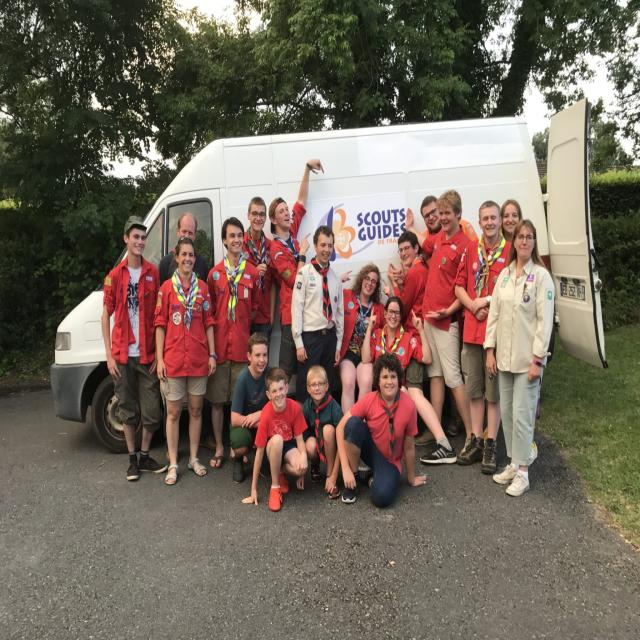body: (481, 215, 558, 499), (100, 212, 169, 481), (405, 189, 473, 455), (385, 229, 458, 466), (152, 232, 218, 486), (411, 193, 474, 456), (454, 200, 512, 474), (334, 348, 429, 510), (206, 214, 262, 470), (267, 157, 326, 389), (334, 261, 394, 472), (290, 224, 344, 409), (240, 367, 307, 513), (360, 295, 433, 397), (238, 194, 278, 368), (295, 364, 345, 499), (230, 332, 272, 484), (158, 213, 213, 291), (499, 198, 524, 244), (194, 228, 213, 268)
